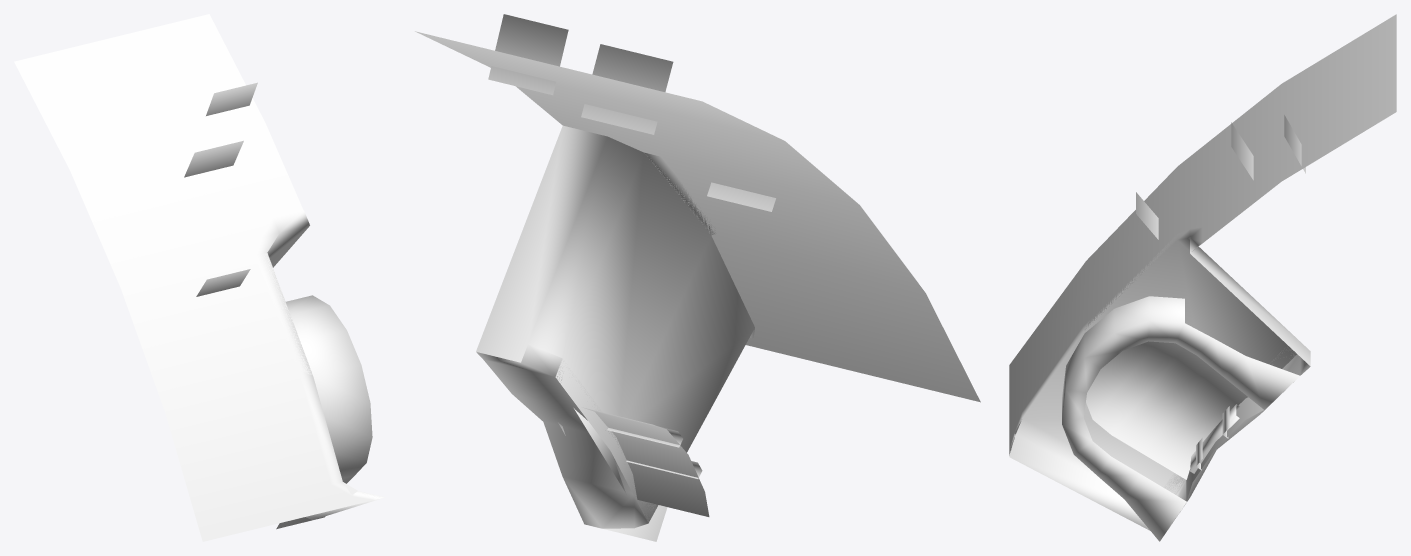
File: grd_Enw_0.dae
The picture shows the model from 3 angles, left to right: view 1: azimuth 30°, elevation 25°; view 2: azimuth 150°, elevation 25°; view 3: azimuth 270°, elevation 25°; orthographic projection. The views are drawn at different scales.
Parts seen in each view (by area): view 1: grd_Enw_0; view 2: grd_Enw_0; view 3: grd_Enw_0.
Boxes of the visible parts, x1=… form: grd_Enw_0: x1=14, y1=14, x2=385, y2=541; grd_Enw_0: x1=415, y1=14, x2=980, y2=541; grd_Enw_0: x1=1009, y1=14, x2=1396, y2=541.
Size of the model in its own units: 128 by 262 by 214.
5 materials, 1 textured.
